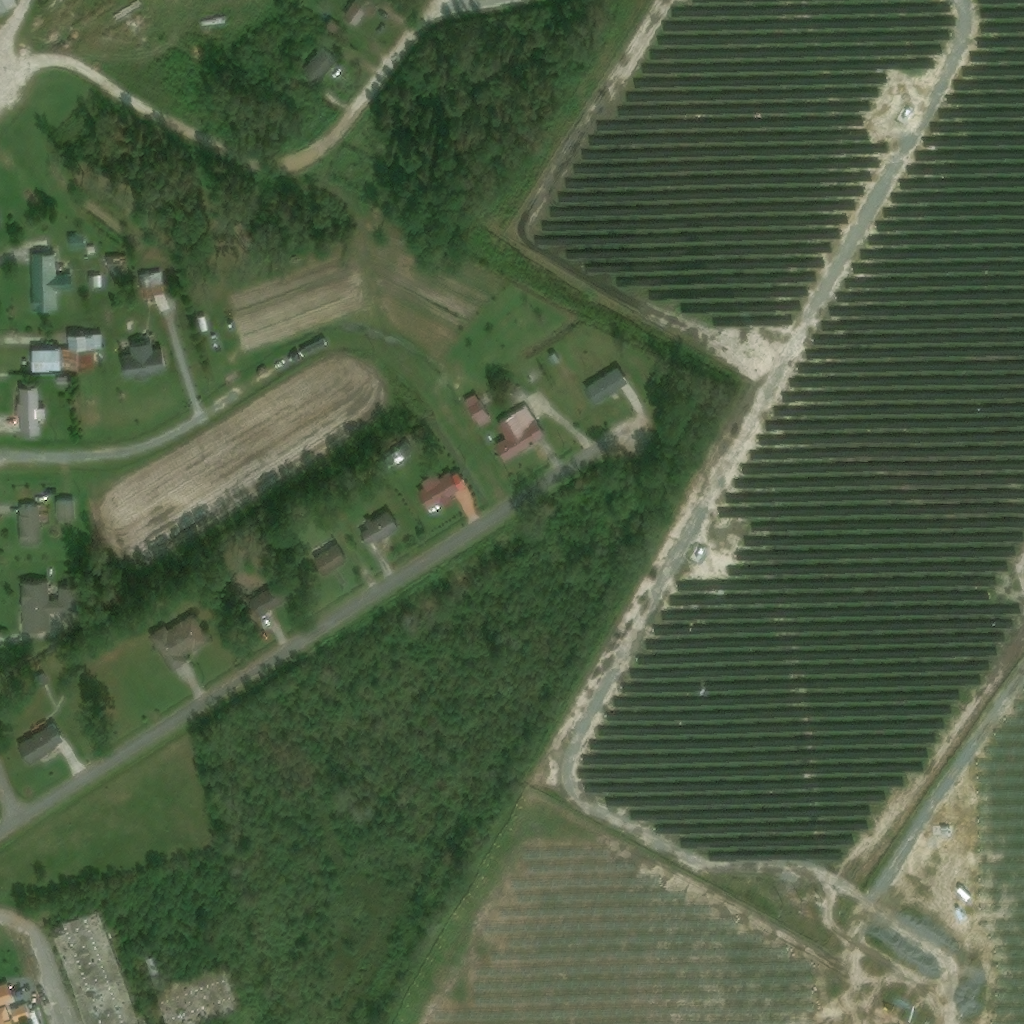no_damage: (47, 908, 138, 1023), (151, 963, 238, 1023), (147, 614, 211, 673), (25, 333, 104, 372), (494, 405, 547, 463), (29, 251, 73, 310), (19, 580, 67, 632), (16, 723, 63, 766), (417, 471, 467, 509), (117, 340, 167, 378), (583, 366, 628, 405), (360, 511, 401, 547), (17, 386, 45, 435), (300, 47, 337, 84), (314, 543, 348, 576), (464, 393, 494, 426), (341, 0, 378, 26), (249, 589, 280, 619), (18, 504, 41, 543), (379, 445, 410, 471), (139, 272, 165, 297), (2, 1005, 30, 1023), (106, 256, 128, 277), (54, 499, 77, 519), (114, 629, 134, 646), (143, 955, 159, 976), (323, 20, 343, 36), (1, 983, 13, 1004), (66, 235, 85, 248), (34, 673, 50, 688), (548, 352, 561, 364), (56, 376, 70, 387), (1, 1006, 10, 1023), (88, 275, 99, 288), (30, 1011, 40, 1023)
